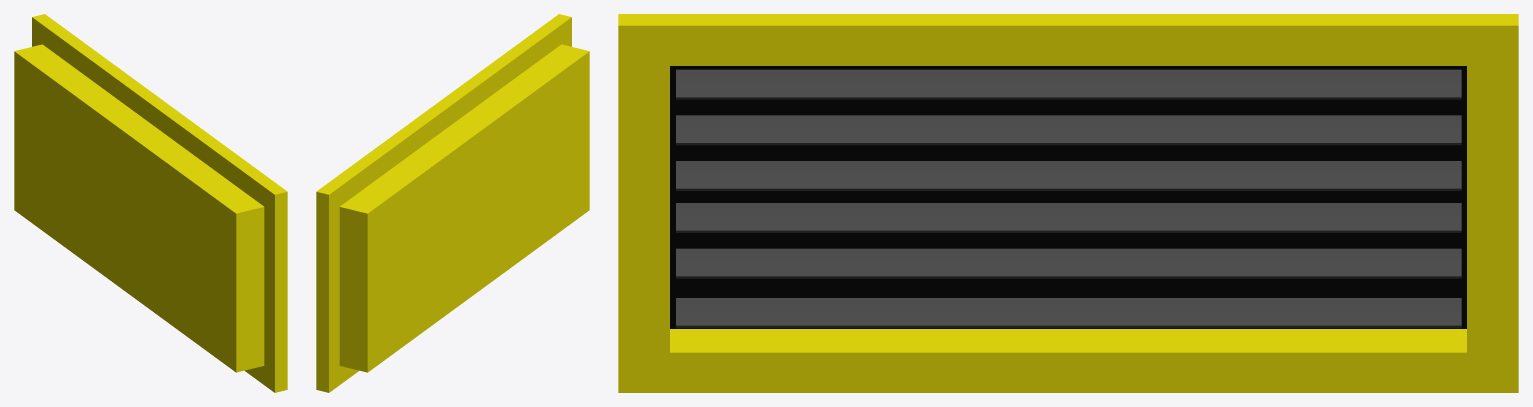
File: Aire Acondicionado.fbx
3 renders of one model, left to right at view 1: azimuth 30°, elevation 25°; view 2: azimuth 150°, elevation 25°; view 3: azimuth 270°, elevation 25°, orthographic. The views are drawn at different scales.
Parts seen in each view (by area): view 1: Aire Acondicionado; view 2: Aire Acondicionado; view 3: Aire Acondicionado.
Part boxes in pixels (x1=…): Aire Acondicionado: x1=14, y1=14, x2=287, y2=392; Aire Acondicionado: x1=316, y1=14, x2=589, y2=392; Aire Acondicionado: x1=618, y1=14, x2=1518, y2=392.
Bounding box in the file's own units: 156 × 719 × 1597.
